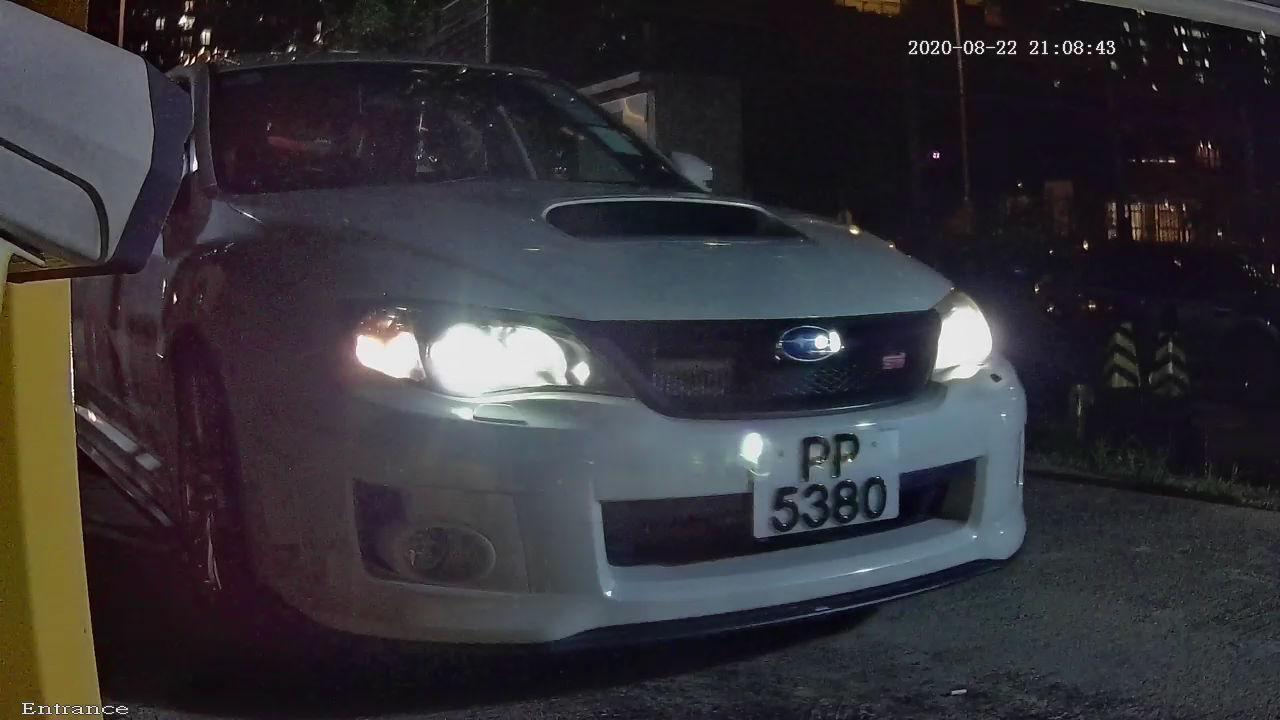Car: (86, 7, 1103, 698)
License Plate: (710, 382, 930, 592)
